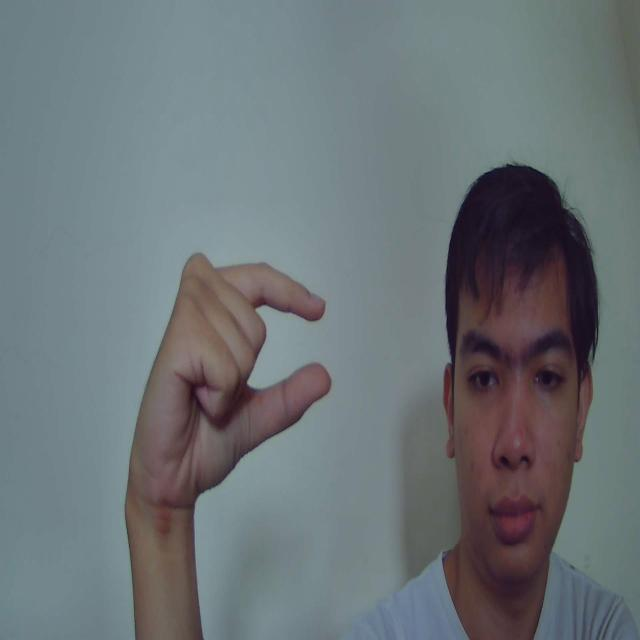G: (124, 252, 333, 506)
